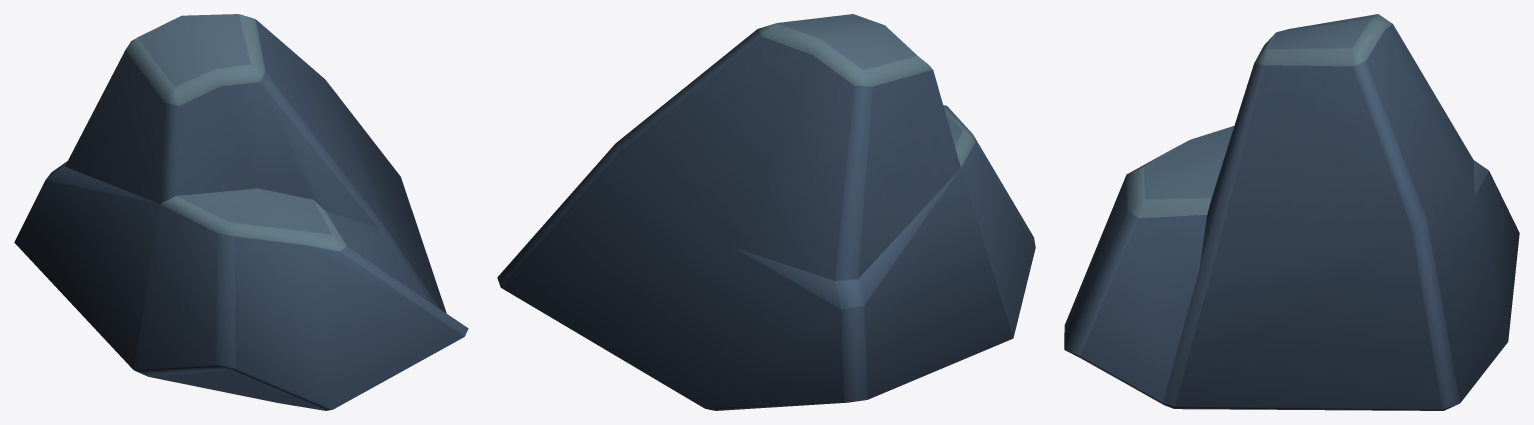
Rendered from rock_018.fbx.
The picture shows the model from 3 angles, left to right: view 1: azimuth 30°, elevation 25°; view 2: azimuth 150°, elevation 25°; view 3: azimuth 270°, elevation 25°; orthographic projection. The views are drawn at different scales.
Visible parts, largest first — view 1: rock_018; view 2: rock_018; view 3: rock_018.
Boxes of the visible parts, x1,y1,x2,y2 form: rock_018: (14,14,468,410); rock_018: (497,14,1035,410); rock_018: (1064,14,1519,410).
Bounding box in the file's own units: 244 × 214 × 253.
Materials: 1 (1 with a texture image).
